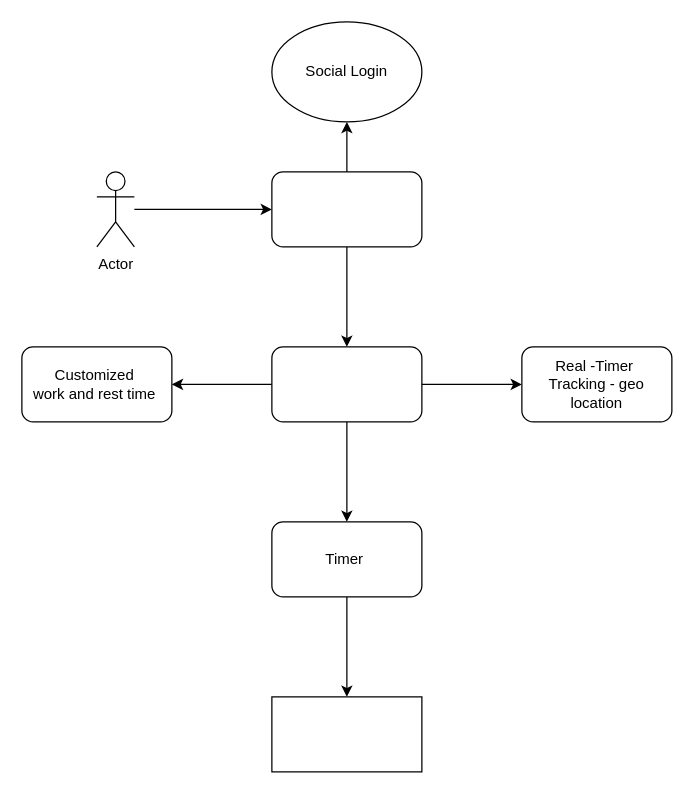
This 694x794 diagram has some shape labels left out. The centre of each missing label's shape, as x and y in pixels:
Minimalist UI: (x=346, y=209)
Real -Timer Pace / speed Monitoring: (x=346, y=384)
Workout history and Statistics: (x=346, y=734)
